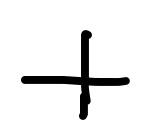plus: (22, 30, 130, 120)
